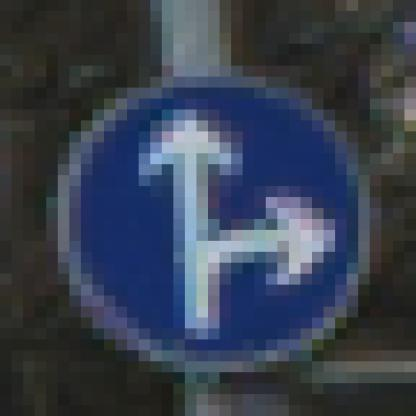Straight or Right: (59, 56, 359, 351)
